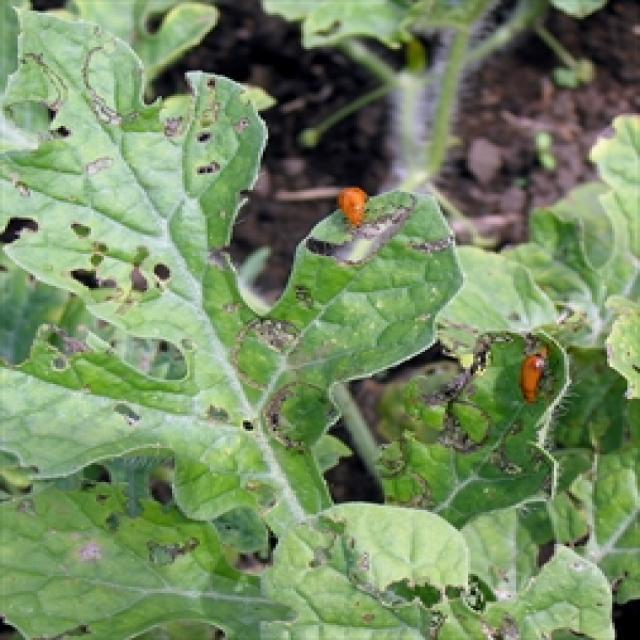Pumpkin Beetle: (291, 521, 508, 626), (447, 318, 565, 471), (291, 164, 454, 274), (74, 212, 194, 316), (139, 103, 249, 190), (254, 357, 344, 457), (21, 36, 118, 114), (230, 294, 324, 348), (89, 389, 162, 439), (132, 530, 222, 570), (0, 208, 53, 263)
